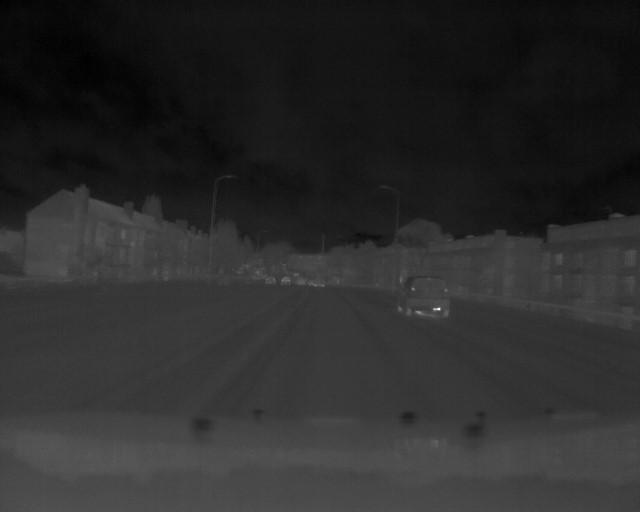car: (396, 274, 452, 321)
